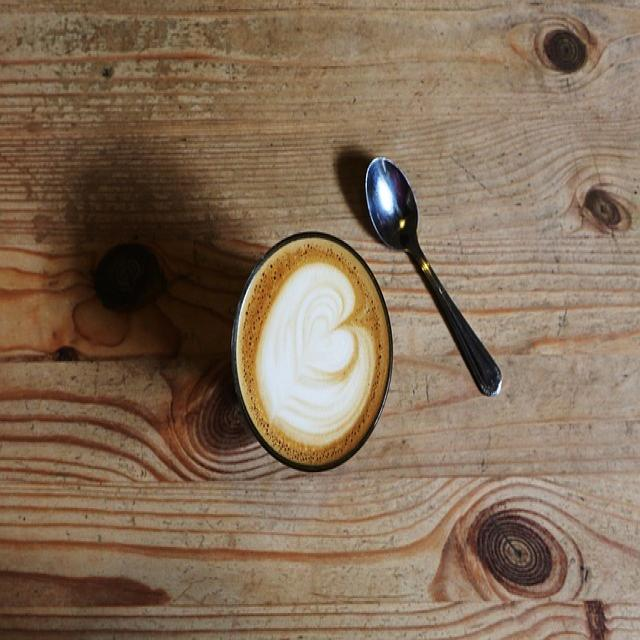spoon: (367, 160, 505, 399)
